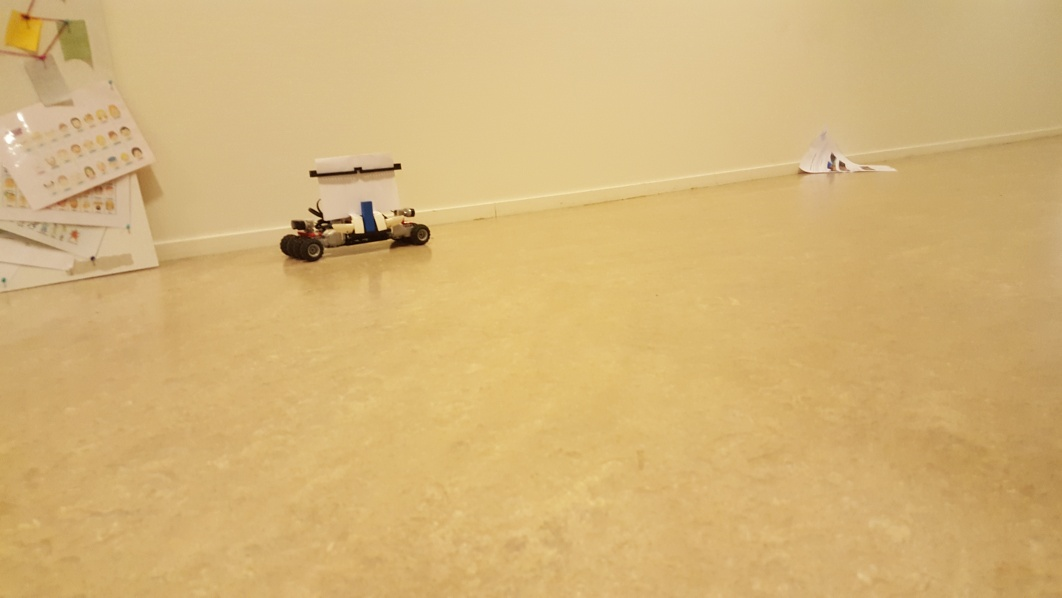car: (281, 155, 431, 262)
